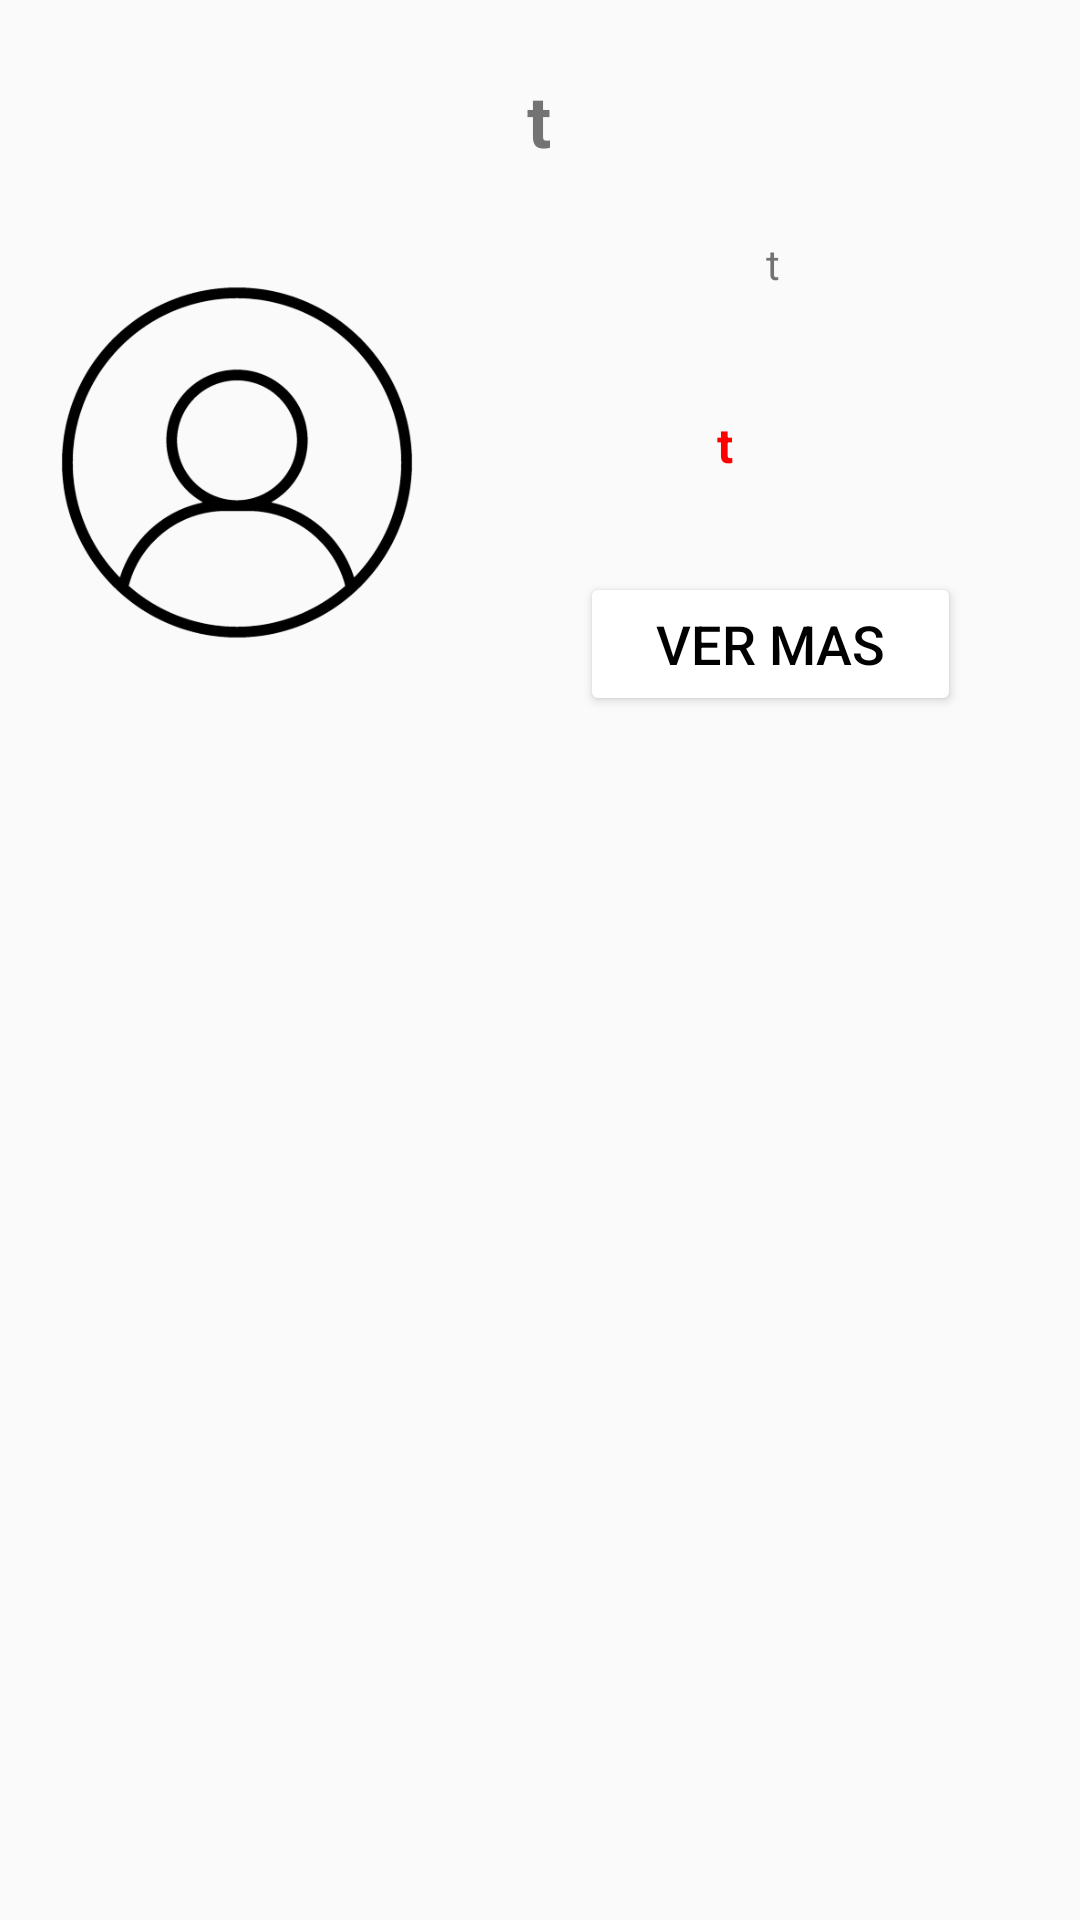

Icons on this 1080w x 1920h Android screen, each with its box as (x1, y1, x2, y2):
perfil: (62, 287, 412, 638)
